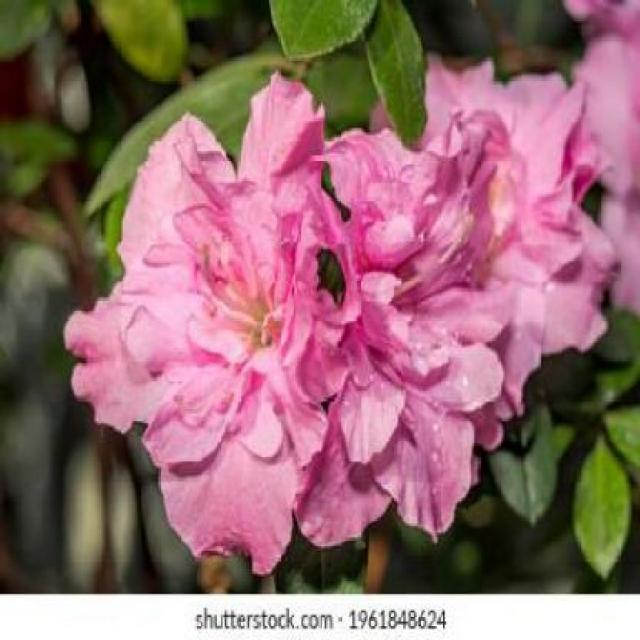flower: (74, 88, 394, 557), (282, 93, 530, 558)
